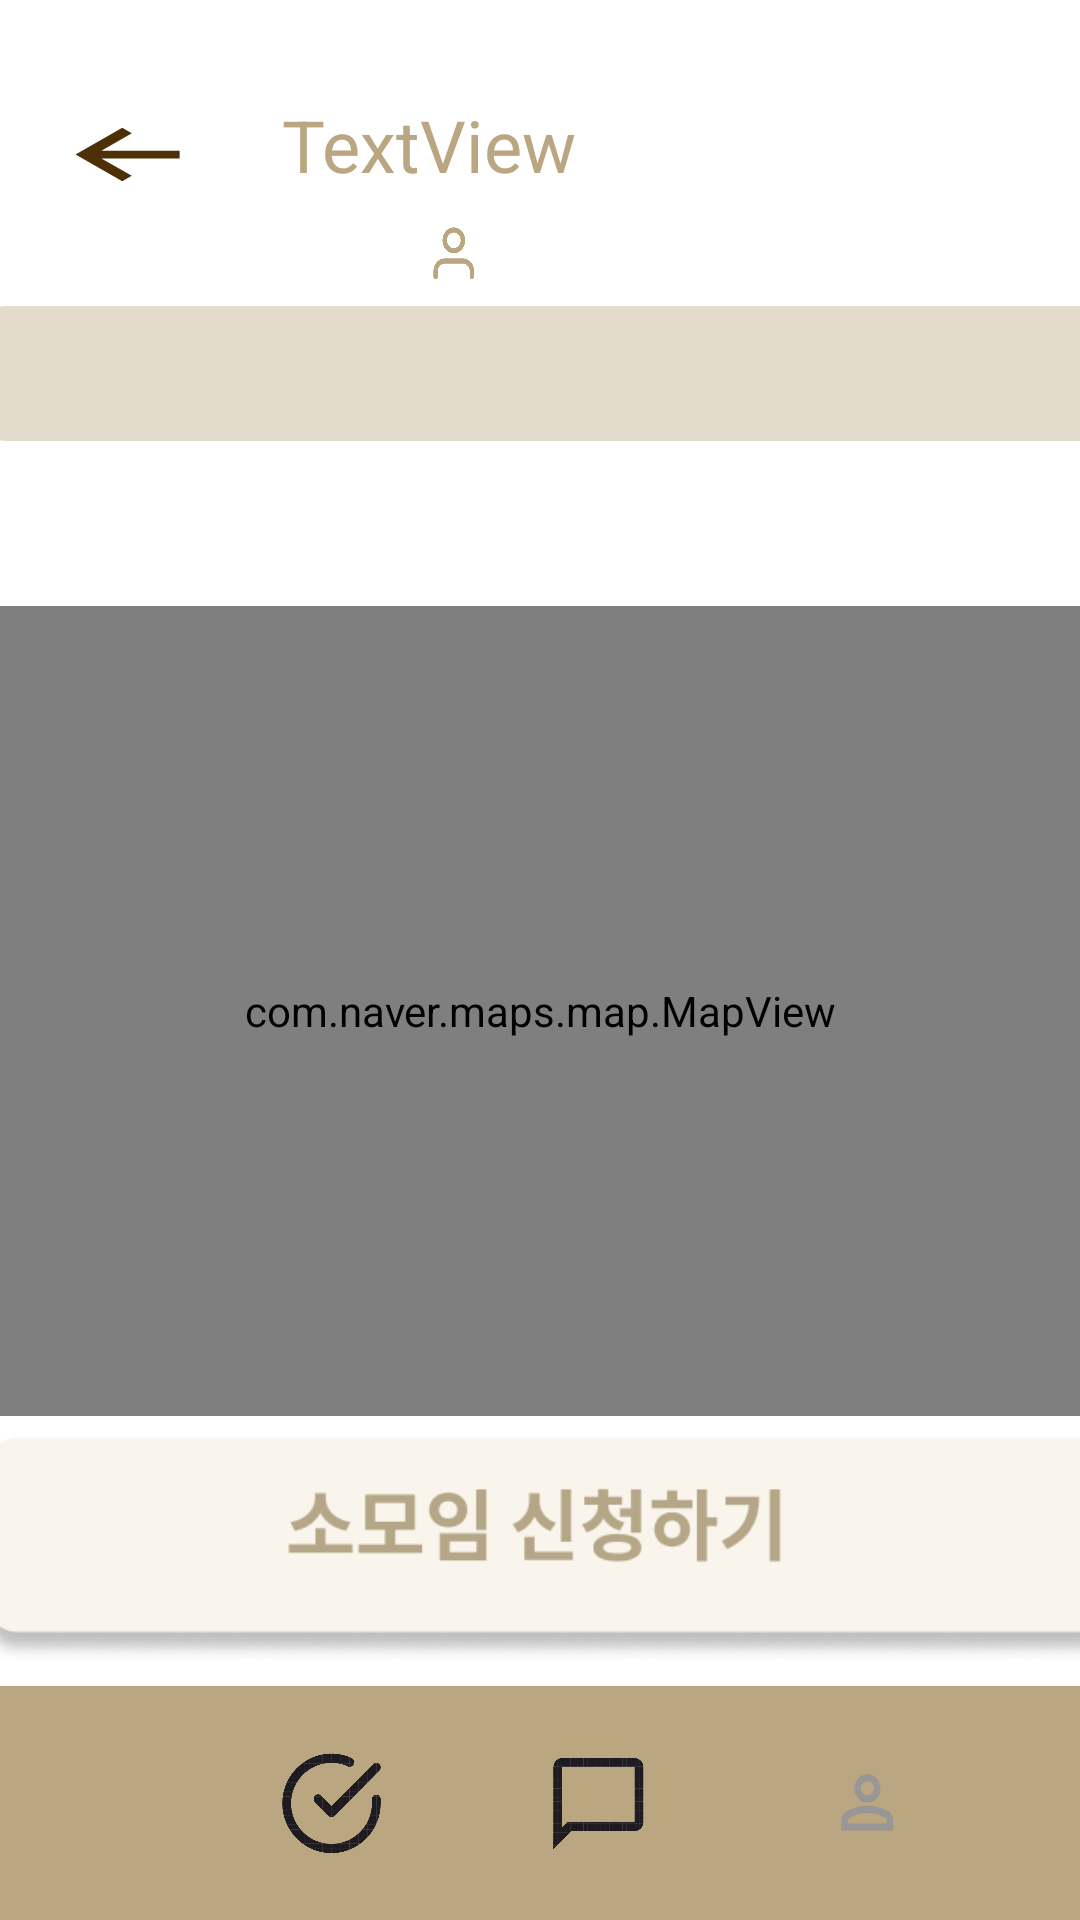

Icon bounding boxes for this 1080px x 1920px phone screenshot, format {"x1": x1, "y1": y1, "x2": x2, "y2": y2}:
chat: {"x1": 553, "y1": 1758, "x2": 644, "y2": 1849}
check: {"x1": 282, "y1": 1754, "x2": 381, "y2": 1853}
meeting backbutton: {"x1": 76, "y1": 127, "x2": 180, "y2": 182}
meeting detail people: {"x1": 433, "y1": 227, "x2": 474, "y2": 279}
mypage: {"x1": 842, "y1": 1774, "x2": 893, "y2": 1830}
